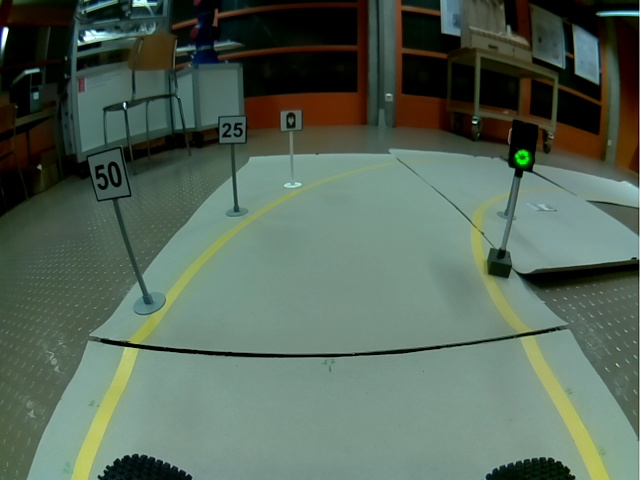battery: (280, 109, 303, 132)
speed25: (218, 116, 247, 144)
speed50: (87, 145, 131, 202)
trafficLightGreen: (508, 119, 539, 173)
